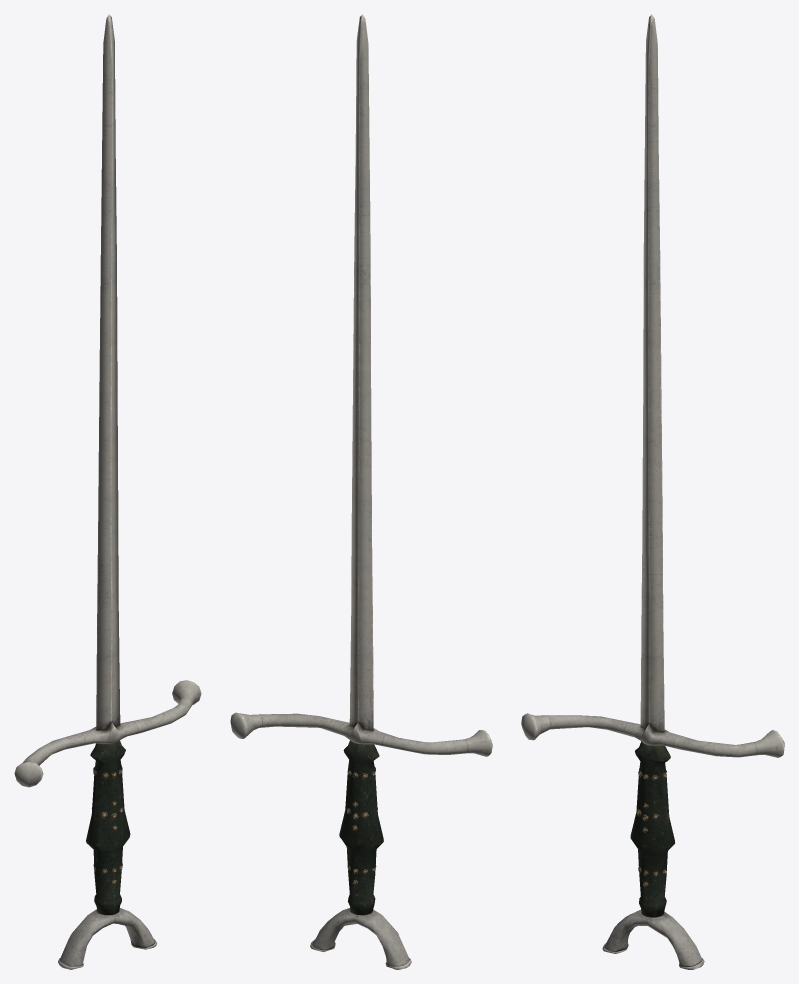
Rendered from antique_estoc.glb.
3 views of the same model, side by side, from view 1: azimuth 30°, elevation 25°; view 2: azimuth 150°, elevation 25°; view 3: azimuth 330°, elevation 25° (orthographic).
Visible parts, largest first — view 1: antique_estoc; view 2: antique_estoc; view 3: antique_estoc.
Part boxes in pixels (x1,y1,x2,y2): antique_estoc: [14, 14, 201, 969]; antique_estoc: [230, 14, 492, 969]; antique_estoc: [521, 14, 784, 969].
Size of the model in its own units: 0.3715 by 1.49 by 0.149.
1 material, 1 textured.
